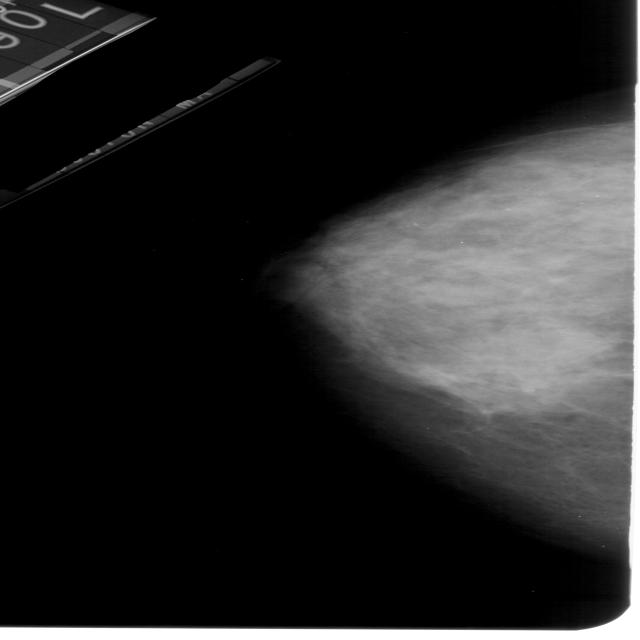cancer: (338, 142, 640, 412)
